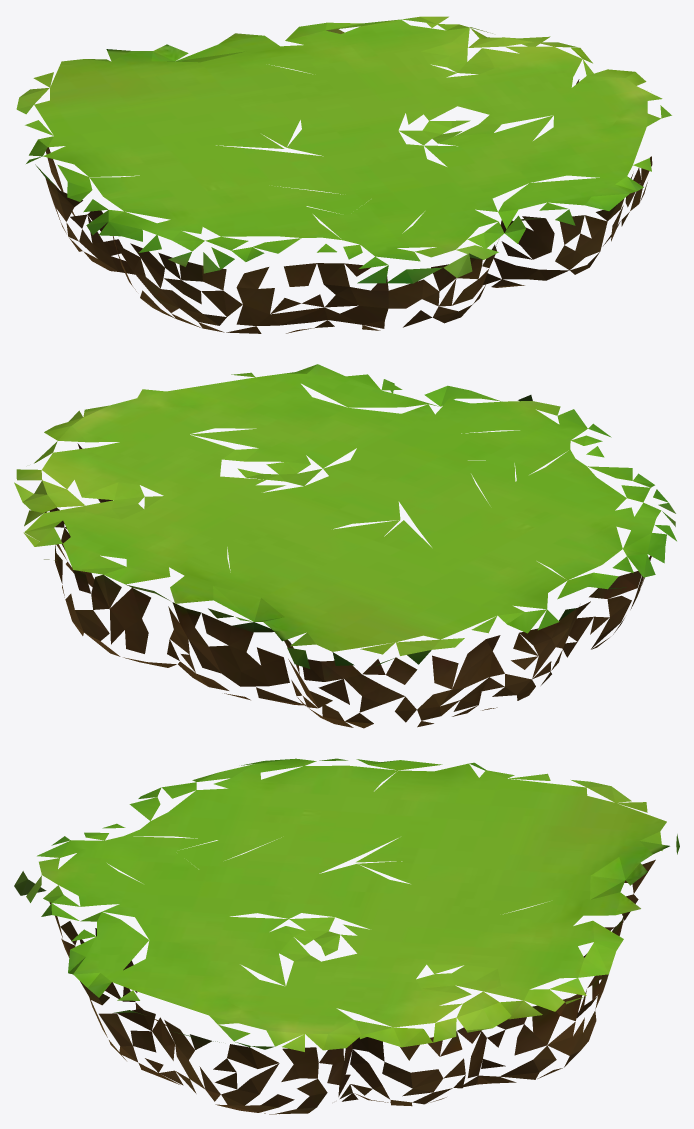
The model's file is space_grassy-.glb.
3 views of the same model, one above another, from view 1: azimuth 30°, elevation 25°; view 2: azimuth 150°, elevation 25°; view 3: azimuth 270°, elevation 25° (orthographic). The views are drawn at different scales.
Visible parts, largest first — view 1: world.001; view 2: world.001; view 3: world.001.
Boxes of the visible parts, left/top/right/bottom form: world.001: left=16, top=16, right=671, bottom=333; world.001: left=14, top=364, right=676, bottom=728; world.001: left=14, top=758, right=679, bottom=1114.
Size of the model in its own units: 0.9899 by 0.2024 by 0.9449.
1 material, 1 textured.
